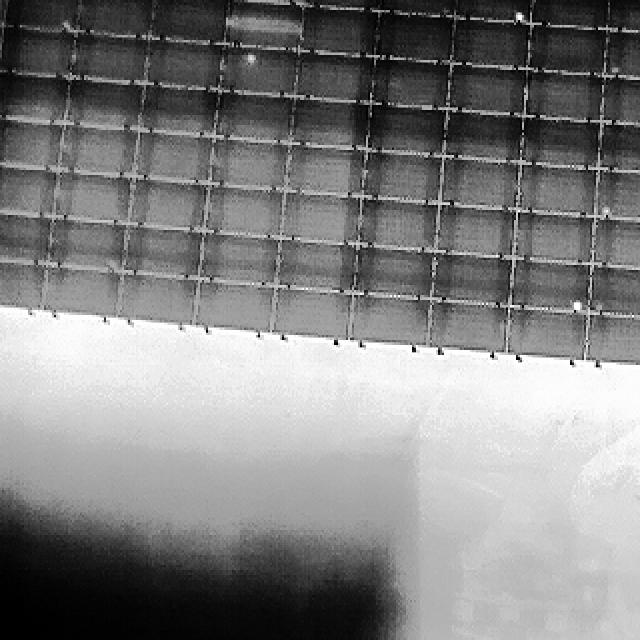Hotspots: (569, 296, 590, 313), (600, 207, 622, 222), (593, 204, 611, 220), (242, 52, 261, 66), (513, 8, 525, 25)
PV-modules: (344, 295, 430, 349), (271, 284, 354, 338), (190, 281, 276, 333), (128, 178, 210, 232), (508, 306, 590, 360), (277, 240, 357, 295), (116, 272, 196, 327), (349, 245, 432, 298), (431, 255, 513, 308), (438, 203, 518, 257), (509, 260, 592, 312), (354, 196, 435, 249), (198, 235, 279, 288), (437, 162, 519, 214), (59, 125, 139, 178), (43, 222, 123, 275), (286, 144, 367, 196), (123, 229, 204, 281), (427, 303, 508, 355), (213, 89, 292, 142), (133, 128, 209, 183), (281, 193, 361, 245), (442, 112, 522, 164), (290, 100, 370, 152), (366, 108, 449, 158), (51, 172, 129, 225), (519, 165, 598, 217), (219, 46, 298, 98), (453, 19, 532, 71), (446, 65, 526, 116), (514, 212, 594, 263), (203, 187, 283, 238), (210, 138, 290, 189), (224, 0, 304, 51), (140, 84, 218, 136), (68, 76, 146, 128), (43, 265, 122, 316), (521, 119, 598, 170), (360, 155, 440, 204), (296, 54, 374, 104), (298, 10, 376, 60), (145, 40, 223, 90), (71, 36, 149, 86), (524, 29, 604, 77), (378, 14, 453, 65), (371, 59, 449, 108), (522, 72, 600, 120), (2, 29, 76, 79), (0, 72, 70, 122), (150, 0, 228, 42), (0, 119, 61, 170), (584, 265, 640, 317), (588, 220, 640, 272), (0, 168, 53, 219), (586, 315, 640, 365), (76, 0, 152, 35), (0, 212, 49, 264), (0, 257, 45, 313), (4, 0, 80, 32), (594, 172, 640, 222), (596, 75, 640, 125), (528, 0, 606, 28), (600, 120, 640, 172), (600, 32, 640, 82), (454, 0, 530, 22), (376, 0, 454, 18), (602, 0, 640, 35), (306, 0, 384, 8), (232, 0, 308, 5)
